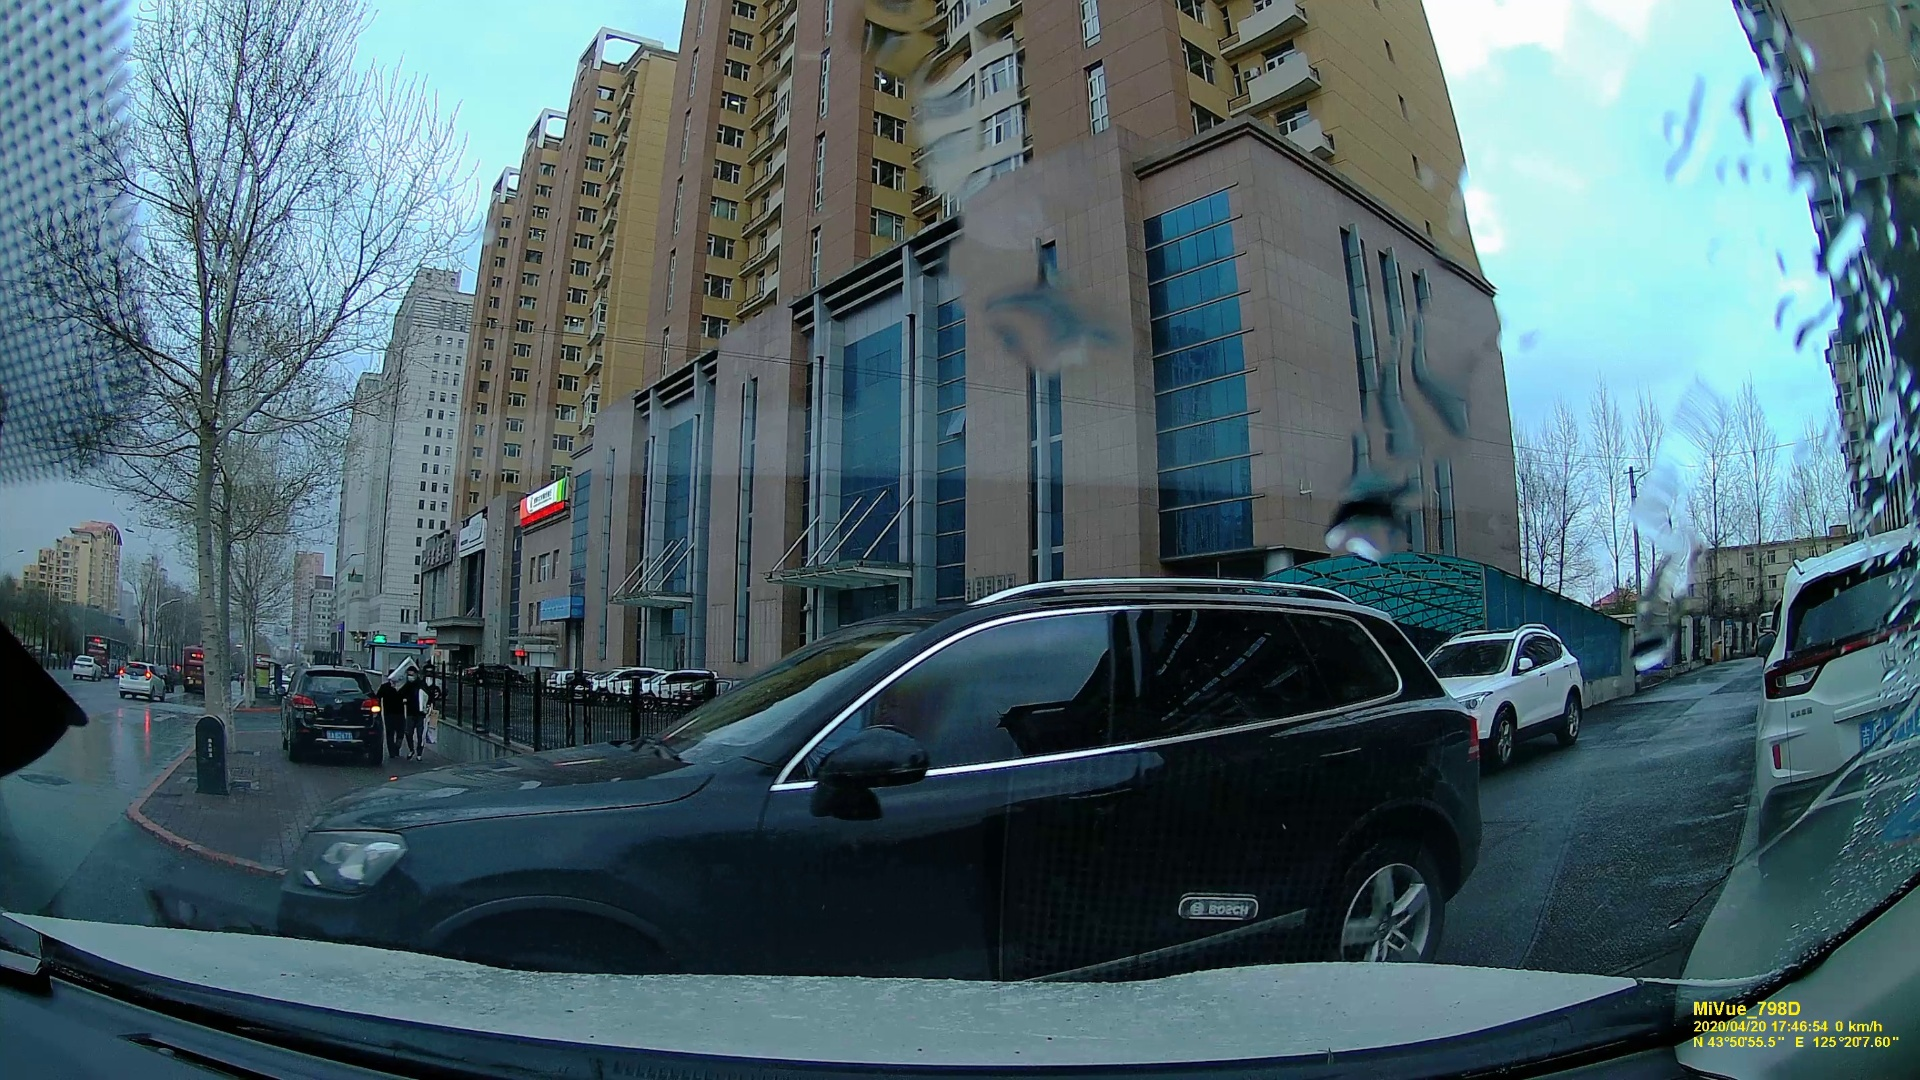person: (401, 668, 429, 752)
vehicle: (280, 582, 1482, 954), (1748, 544, 1914, 811), (1433, 622, 1593, 759), (273, 664, 388, 761), (112, 663, 156, 700), (68, 654, 101, 679)
